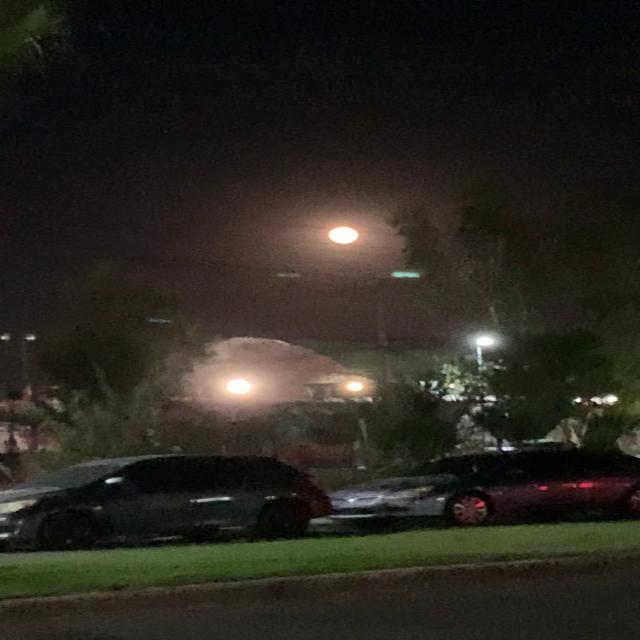moon: (323, 220, 376, 246)
